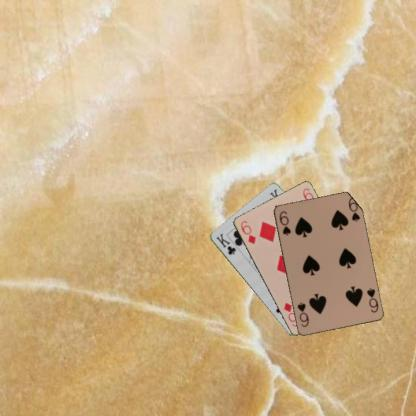6d: (238, 218, 257, 245)
6s: (364, 285, 379, 314), (277, 208, 292, 236)
Kc: (213, 230, 237, 256)
